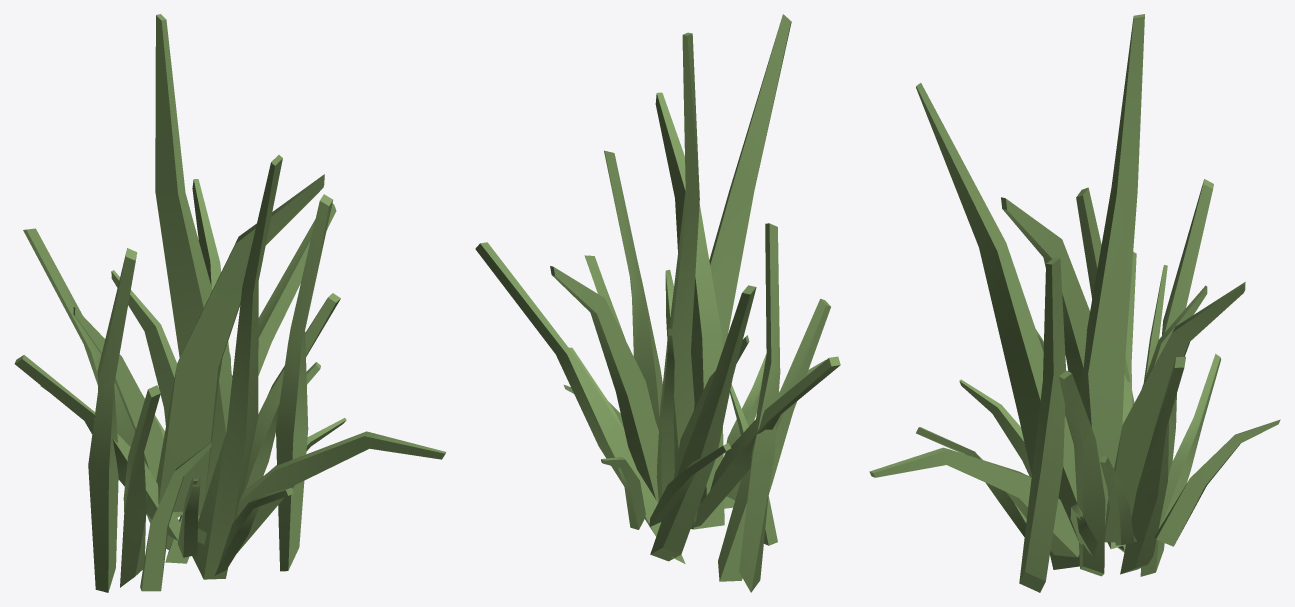
File: Plants_Pack_Grass_blade_011.001.fbx
The picture shows the model from 3 angles, left to right: view 1: azimuth 30°, elevation 25°; view 2: azimuth 150°, elevation 25°; view 3: azimuth 270°, elevation 25°; orthographic projection. The views are drawn at different scales.
Parts seen in each view (by area): view 1: Plants_Pack_Grass_blade_011.001; view 2: Plants_Pack_Grass_blade_011.001; view 3: Plants_Pack_Grass_blade_011.001.
Boxes of the visible parts, box(x1,y1,x2,y2) form: Plants_Pack_Grass_blade_011.001: box(14, 14, 446, 592); Plants_Pack_Grass_blade_011.001: box(475, 14, 840, 592); Plants_Pack_Grass_blade_011.001: box(869, 14, 1280, 592).
Bounding box in the file's own units: 40.27 × 61.78 × 40.78.
